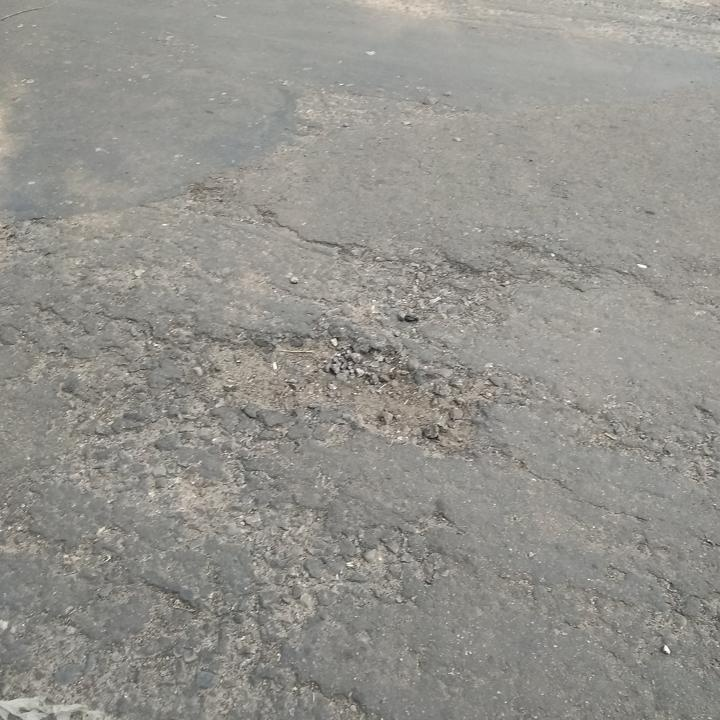pothole: (194, 326, 486, 464), (342, 241, 484, 324)
